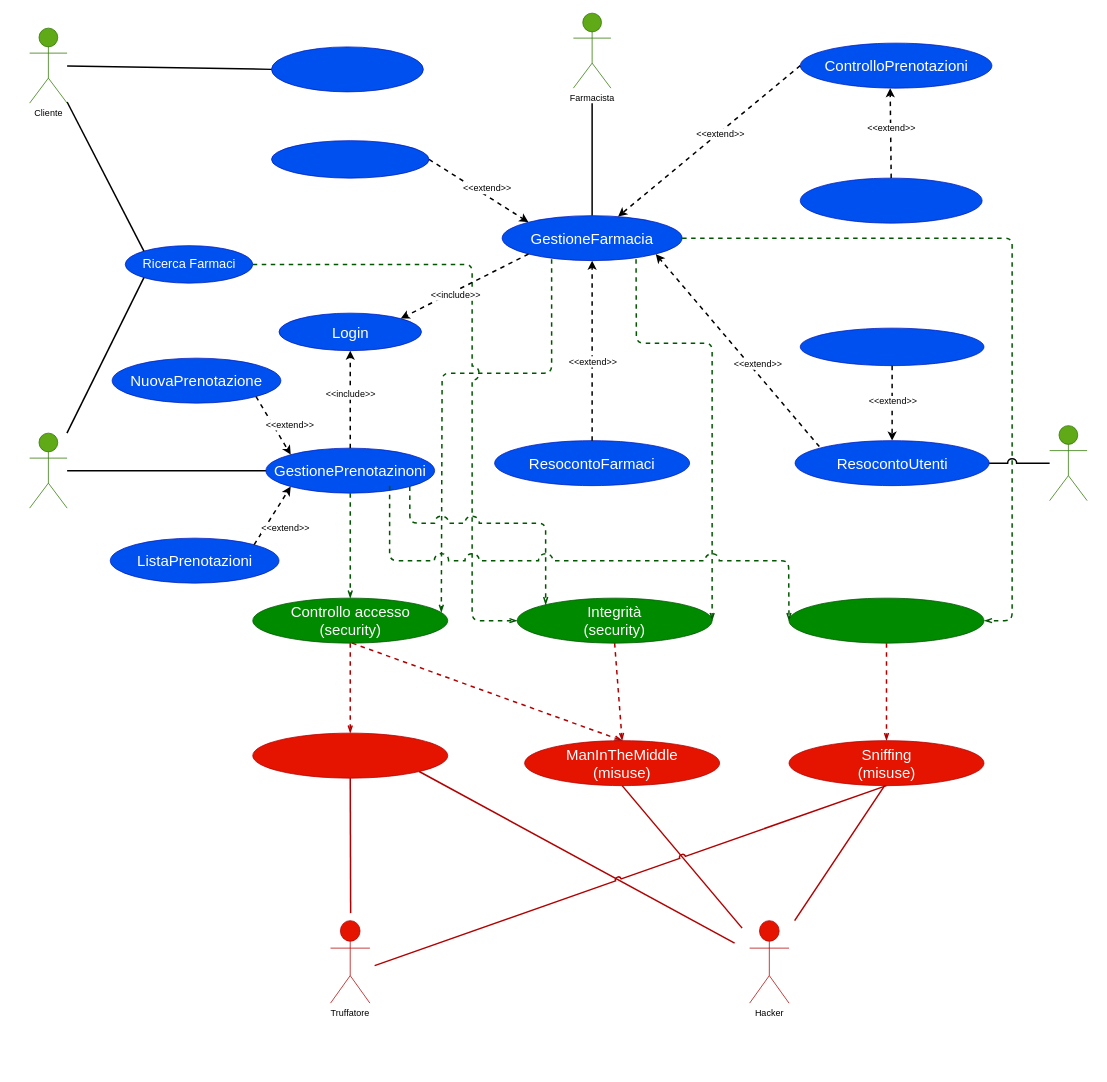
The diagram is 1107 pixels wide and 1082 high, and some of its shapes have lost their labels. Each missing label, with the box of its shape:
<<event>> FineGiornata: (1049, 425, 1087, 501)
Cliente Registrato: (29, 432, 67, 508)
ConfermaPrenotazione: (800, 177, 982, 223)
FurtoCredenziali (misuse): (252, 732, 448, 778)
Registrazione: (271, 46, 423, 92)
Riservatezza (security): (788, 597, 984, 643)
SospensioneUtenza: (800, 327, 984, 366)
VerificaIdentità: (271, 140, 429, 178)
